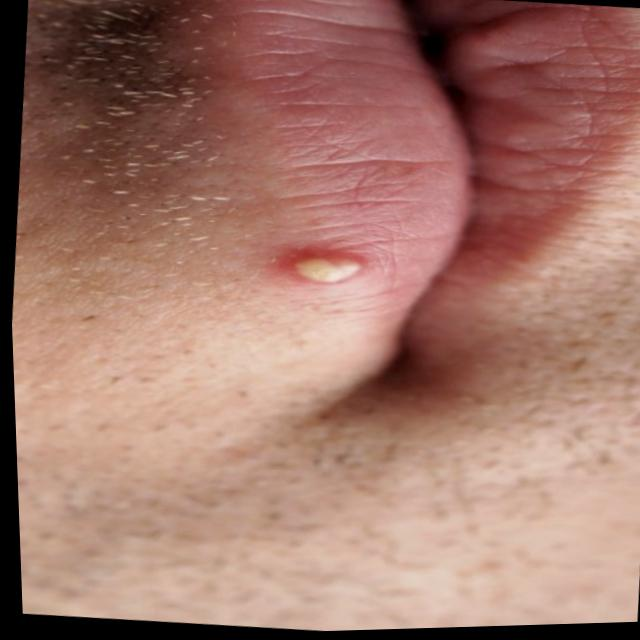pustule: (254, 238, 390, 311)
